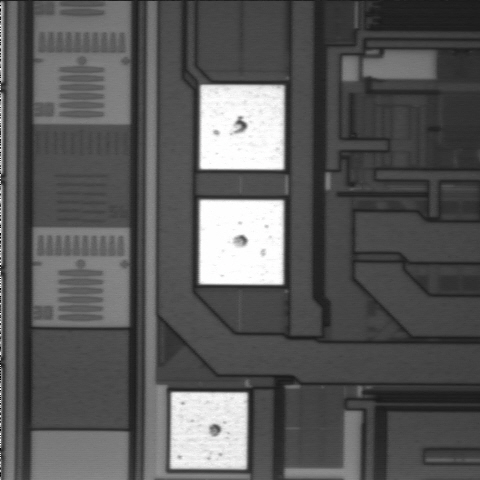pad: (199, 200, 284, 285), (200, 85, 284, 170), (170, 392, 247, 469)
